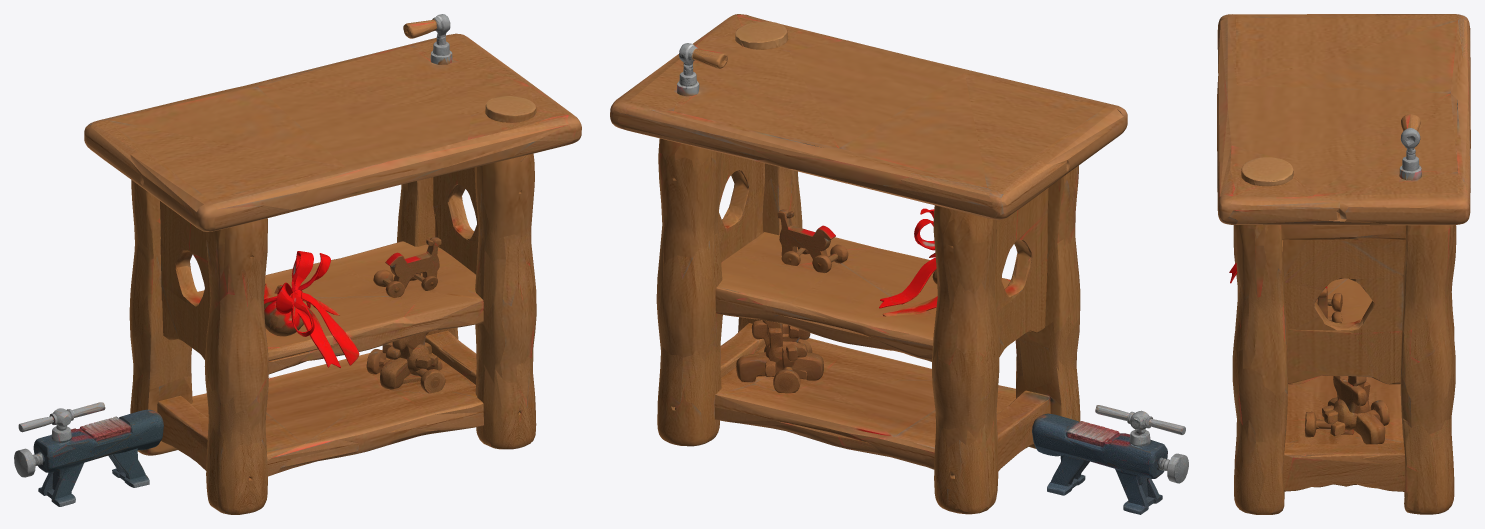
File: xmas_bench.glb
The picture shows the model from 3 angles, left to right: view 1: azimuth 30°, elevation 25°; view 2: azimuth 150°, elevation 25°; view 3: azimuth 270°, elevation 25°; orthographic projection. The views are drawn at different scales.
Bounding box in the file's own units: 1.9 × 1.34 × 0.8163.
Materials: 1 (1 with a texture image).
